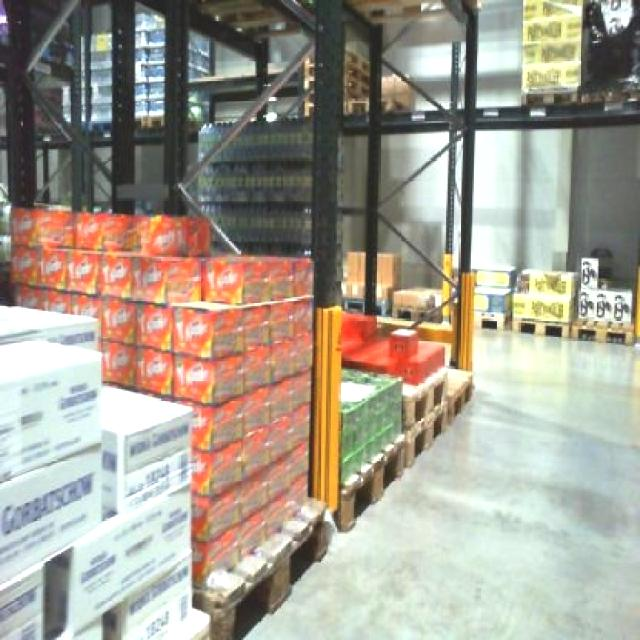pallets: (9, 208, 309, 582), (0, 317, 188, 637)
